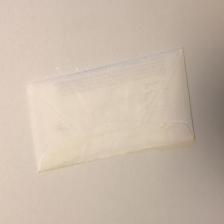paper: (23, 47, 200, 172)
